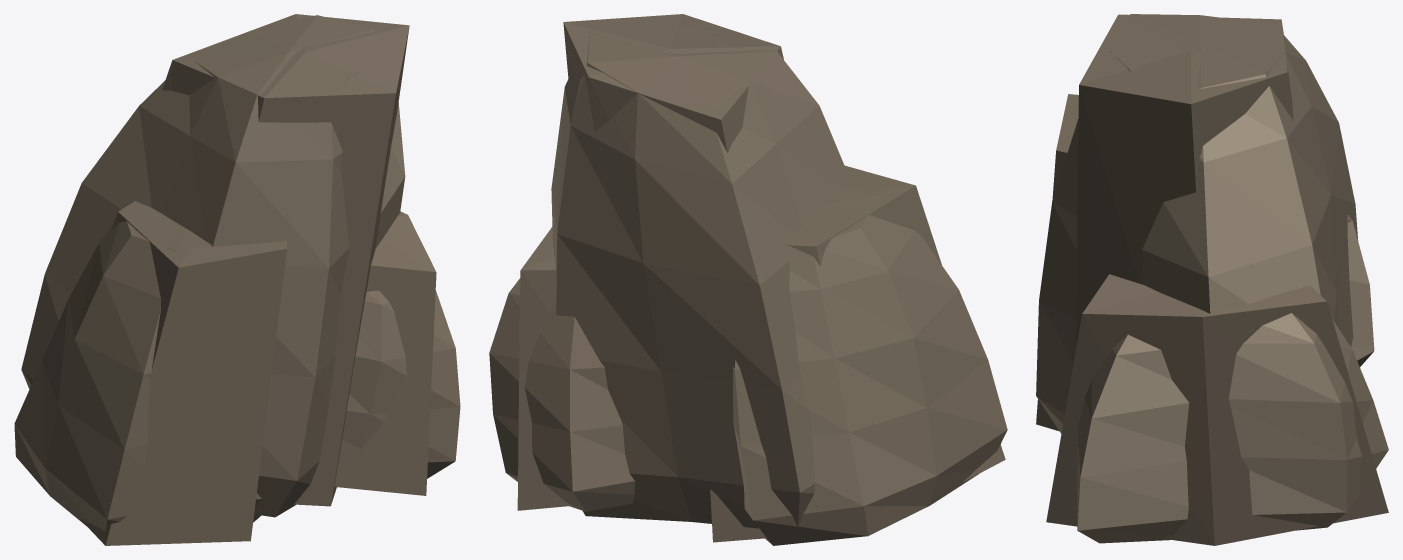
The model's file is rock_harbor_fractured_c.glb.
3 views of the same model, side by side, from view 1: azimuth 30°, elevation 25°; view 2: azimuth 150°, elevation 25°; view 3: azimuth 270°, elevation 25° (orthographic). The views are drawn at different scales.
Visible parts, largest first — view 1: rock_harbor_fractured_c_LOD0_stone, rock_harbor_fractured_c_LOD1_stone; view 2: rock_harbor_fractured_c_LOD0_stone, rock_harbor_fractured_c_LOD1_stone; view 3: rock_harbor_fractured_c_LOD0_stone, rock_harbor_fractured_c_LOD1_stone.
Boxes of the visible parts, x1,y1,x2,y2 form: rock_harbor_fractured_c_LOD0_stone: [14, 15, 460, 531]; rock_harbor_fractured_c_LOD1_stone: [79, 14, 436, 545]; rock_harbor_fractured_c_LOD0_stone: [489, 28, 1007, 545]; rock_harbor_fractured_c_LOD1_stone: [517, 14, 1005, 542]; rock_harbor_fractured_c_LOD0_stone: [1036, 14, 1388, 543]; rock_harbor_fractured_c_LOD1_stone: [1036, 14, 1388, 545].
Bounding box in the file's own units: 3.72 × 4.03 × 2.82.
